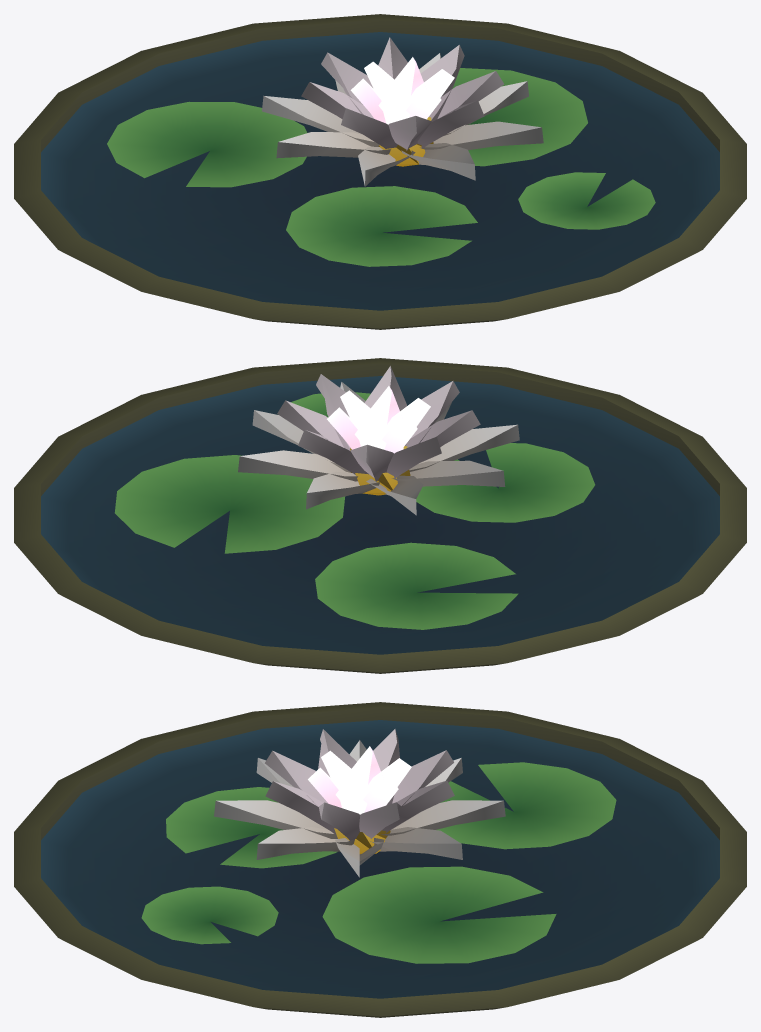
Rendered from meditation_lotus.glb.
3 views of the same model, one above another, from view 1: azimuth 30°, elevation 25°; view 2: azimuth 150°, elevation 25°; view 3: azimuth 270°, elevation 25° (orthographic).
Parts seen in each view (by area): view 1: meditation_lotus, meditation_lotus_glow; view 2: meditation_lotus, meditation_lotus_glow; view 3: meditation_lotus, meditation_lotus_glow.
Boxes of the visible parts, box(x1,y1,x2,y2) form: meditation_lotus: box(14, 14, 746, 329); meditation_lotus_glow: box(350, 57, 454, 124); meditation_lotus: box(14, 358, 746, 673); meditation_lotus_glow: box(327, 386, 430, 453); meditation_lotus: box(14, 702, 746, 1017); meditation_lotus_glow: box(308, 746, 411, 814).
Bounding box in the file's own units: 1.08 × 0.1941 × 1.06.
